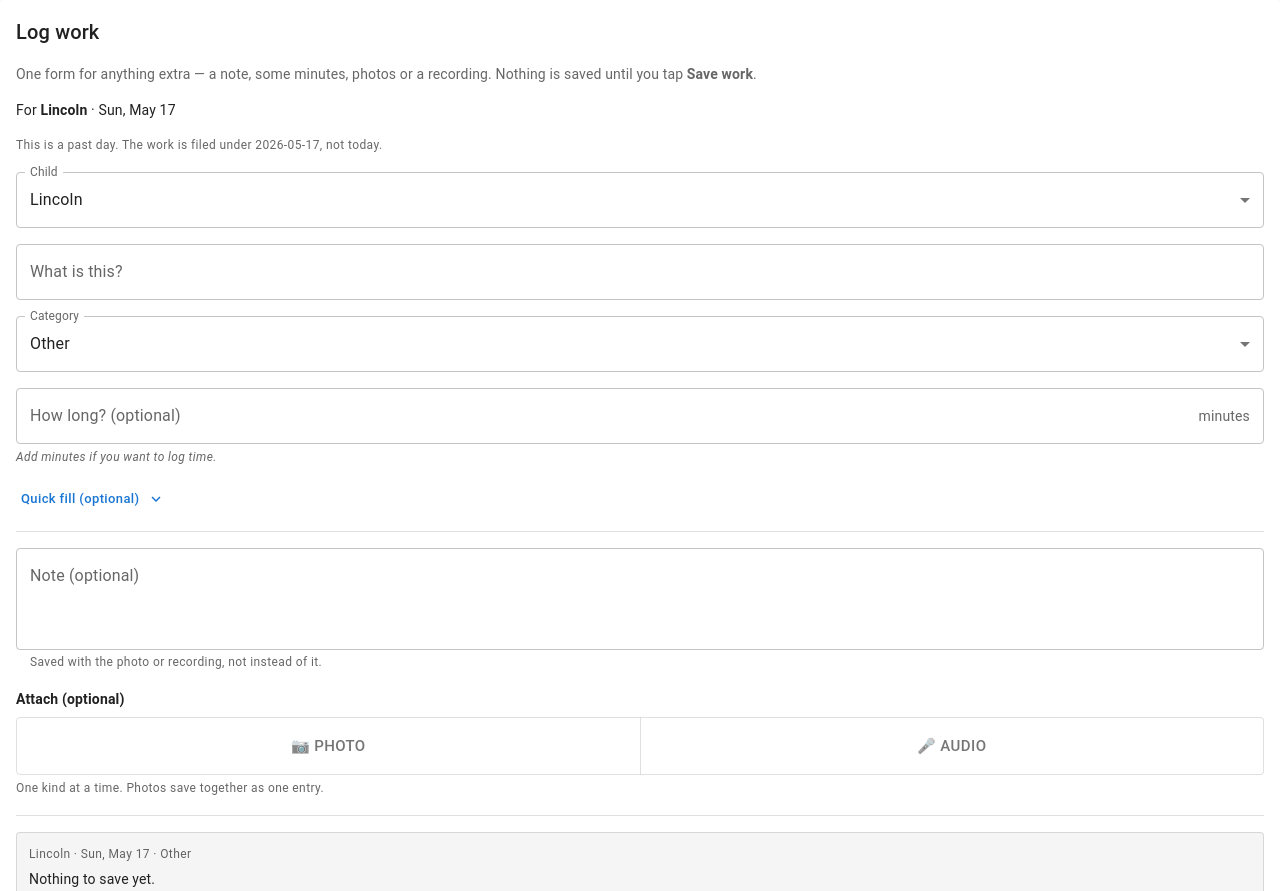
Test case: UnifiedCaptureCard (parent variant) › clamps duration > 240 to 240
Type "500" into the number field named "duration in minutes" at (603, 416), box [16,388,1191,444]
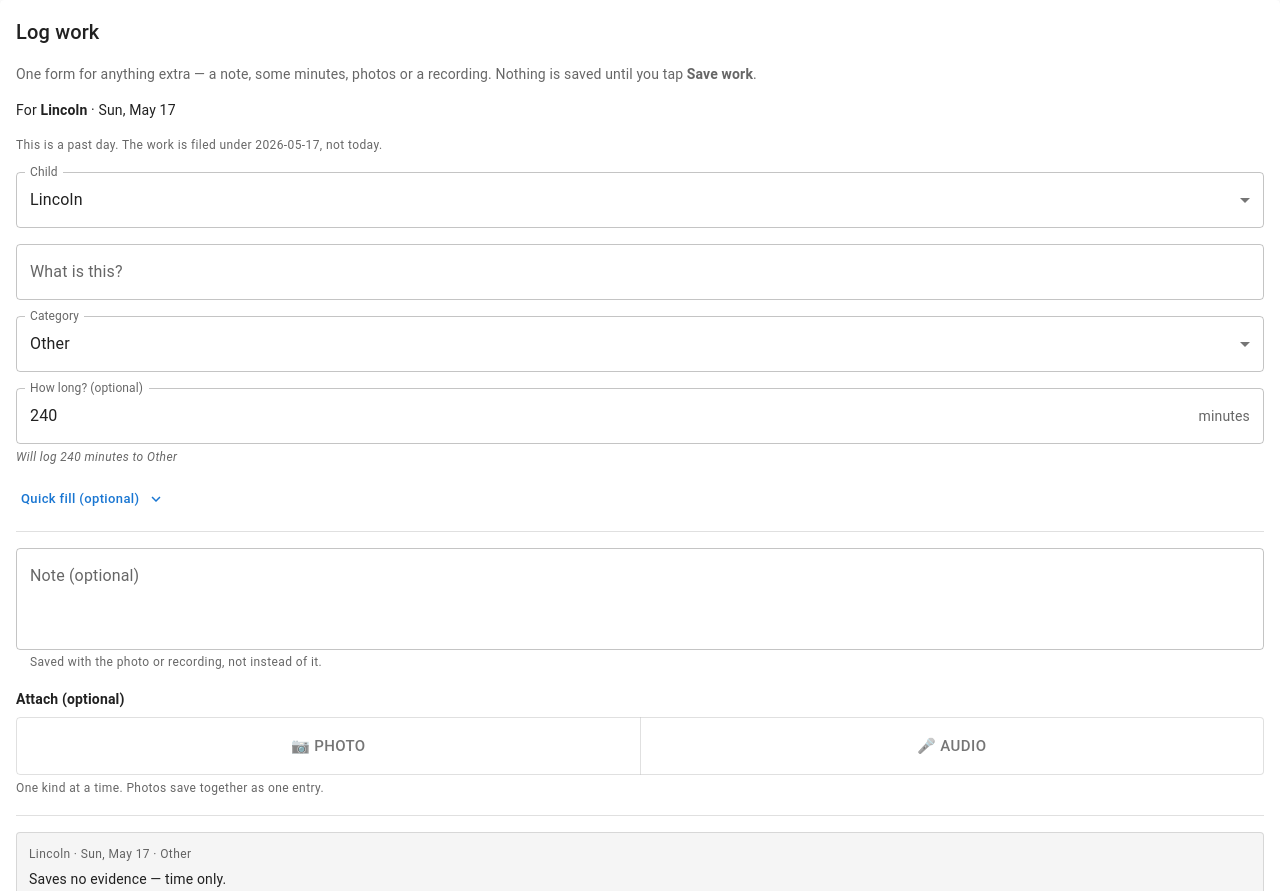
Now the number field named "duration in minutes" holds "240", box [16,388,1191,444]
